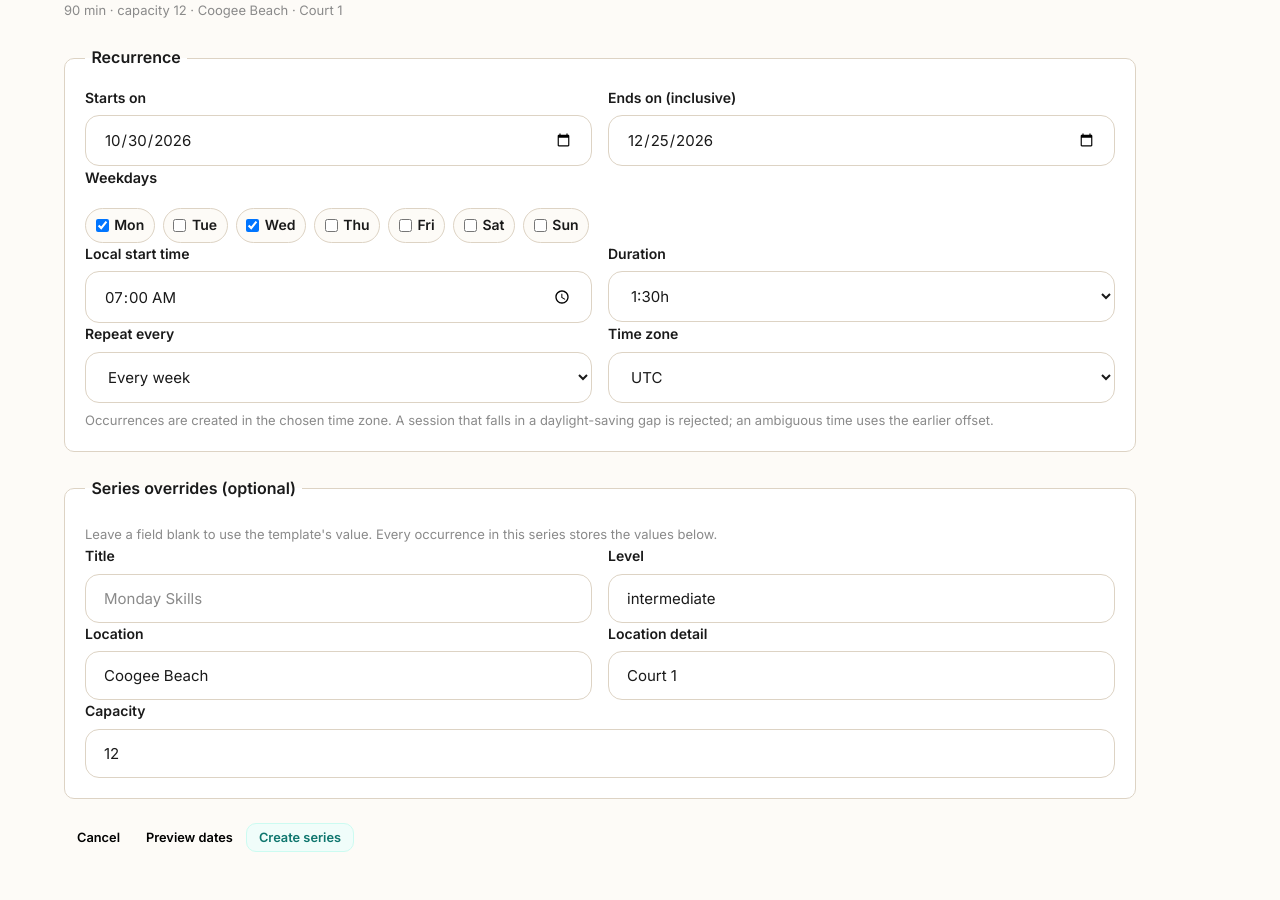
Test case: TrainingSeriesFormPage › shows validation errors from the preview
The width and height of the screenshot is (1280, 900).
(page scrolled)
Expected: the text "90 min · capacity 12 · Coogee Beach · Court 1" is shown, [64,2,343,18]
Click the button "Preview dates". click: click(189, 837)
box: [133,823,246,852]
(page scrolled)
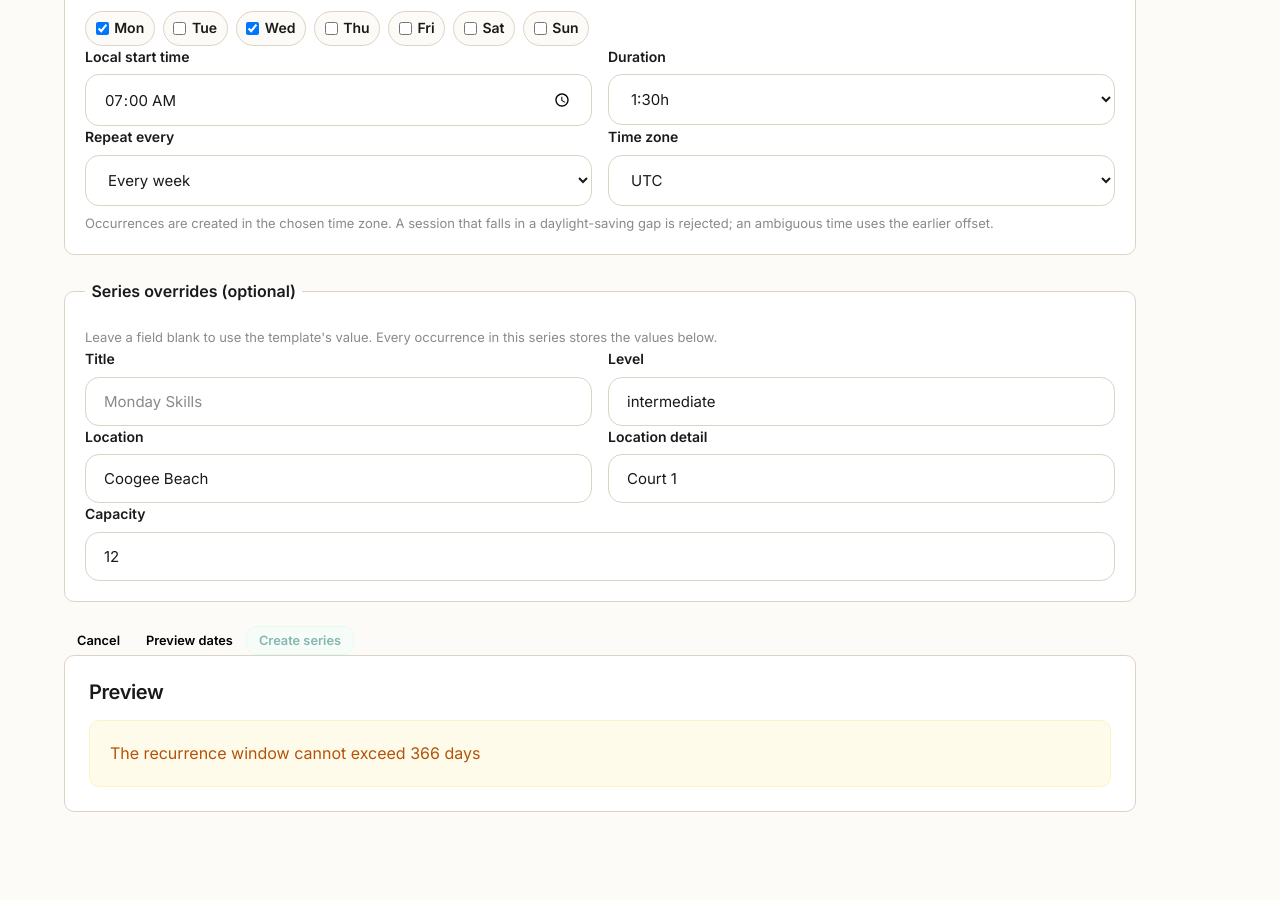
Now the list item "The recurrence window cannot exceed 366 days" is shown, box [110,743,480,763]
